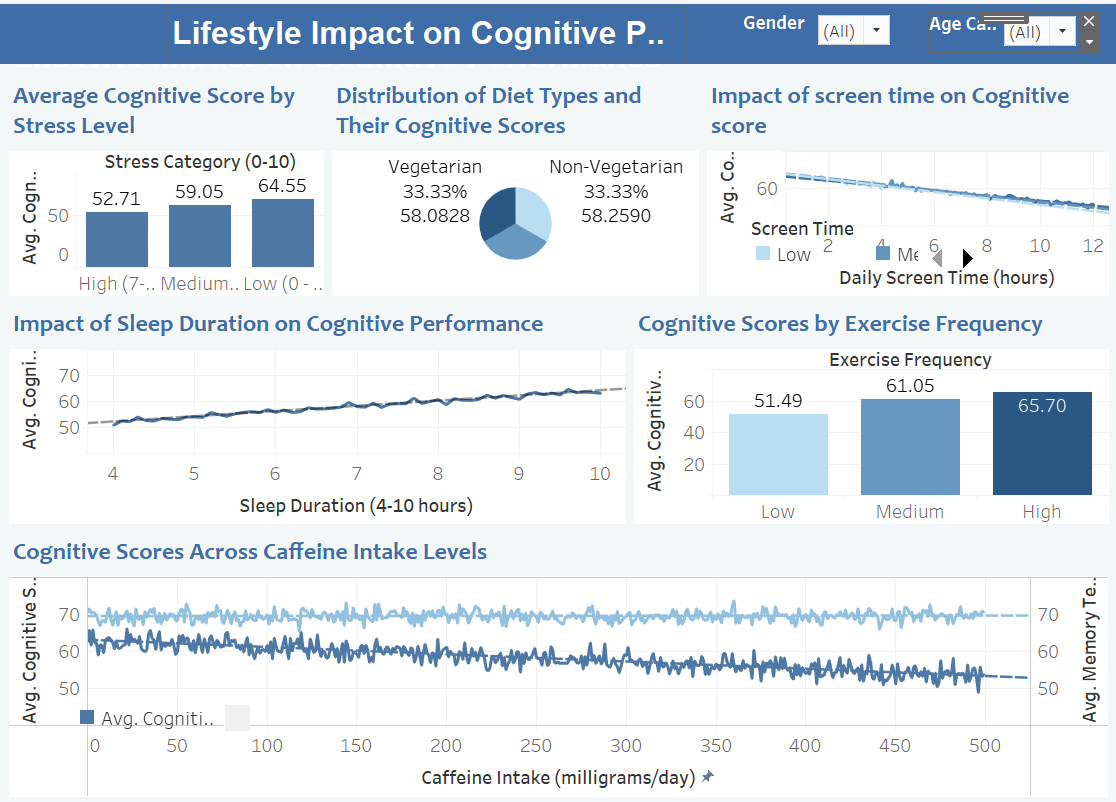

Layout of this report page (visuals, bound fields, positions):
{"tool":"tableau","page":{"name":"ifestyle Impact on Cognitive Performance","canvas":[1000,1000],"units":"permille","ordinal":0},"visuals":[{"type":"title","box":[3.6,6,992.9,35.8]},{"type":"text","box":[152,6.8,459.9,63.4]},{"type":"filter","title":"Memory","param":"[federated.0cduqt81ammfil1d5knbv172os03].[none:Gender:nk]","box":[663.3,11.1,133.3,48.9]},{"type":"filter","title":"Sleep impact","param":"[federated.0cduqt81ammfil1d5knbv172os03].[none:Calculation_1760063030274150407:n","box":[829.2,12.2,133.3,48.9]},{"type":"text","box":[3.6,41.8,992.9,24.1]},{"type":"worksheet","title":"Stress","mark":"Automatic","rows":["Cognitive_Score"],"cols":["Calculation_1760063029617598466"],"box":[3.6,65.9,289.3,293.2]},{"type":"worksheet","title":"Diet Type","mark":"Pie","box":[292.9,65.9,336.3,293.2]},{"type":"worksheet","title":"screentime","mark":"Automatic","rows":["Cognitive_Score"],"cols":["Daily_Screen_Time"],"box":[629.1,65.9,367.3,293.2]},{"type":"legend","title":"screentime","param":"[federated.0cduqt81ammfil1d5knbv172os03].[none:Calculation_2838956617830924288:n","box":[671.1,263.2,207.2,76.2]},{"type":"worksheet","title":"Sleep impact","mark":"Automatic","rows":["Cognitive_Score"],"cols":["Sleep_Duration"],"box":[3.6,359.2,559.9,293.3]},{"type":"worksheet","title":"excersie vs cognitive","mark":"Automatic","rows":["Cognitive_Score"],"cols":["Exercise_Frequency"],"box":[563.5,359.2,432.9,293.3]},{"type":"worksheet","title":"Memory","mark":"Line","rows":["Cognitive_Score","Memory_Test_Score"],"cols":["Caffeine_Intake"],"box":[3.6,652.5,992.9,341.5]},{"type":"legend","title":"Memory","param":"[federated.0cduqt81ammfil1d5knbv172os03].[:Measure Names]","box":[69.2,838.9,157.5,64.4]}]}

Visuals, with their boxes on the dashboard's canvas, which has no fixed pixel size, in thousandths of its width and height (x1, y1, x2, y2). These are canvas units, not pixel positions in the 1116x802 screenshot, which may show the page scaled, cropped or inside an application window:
title: 4, 6, 996, 42
text: 152, 7, 612, 70
"Memory" filter: 663, 11, 797, 60
"Sleep impact" filter: 829, 12, 962, 61
text: 4, 42, 996, 66
"Stress" worksheet: 4, 66, 293, 359
"Diet Type" worksheet (Pie marks): 293, 66, 629, 359
"screentime" worksheet: 629, 66, 996, 359
"screentime" legend: 671, 263, 878, 339
"Sleep impact" worksheet: 4, 359, 564, 652
"excersie vs cognitive" worksheet: 564, 359, 996, 652
"Memory" worksheet (Line marks): 4, 652, 996, 994
"Memory" legend: 69, 839, 227, 903
